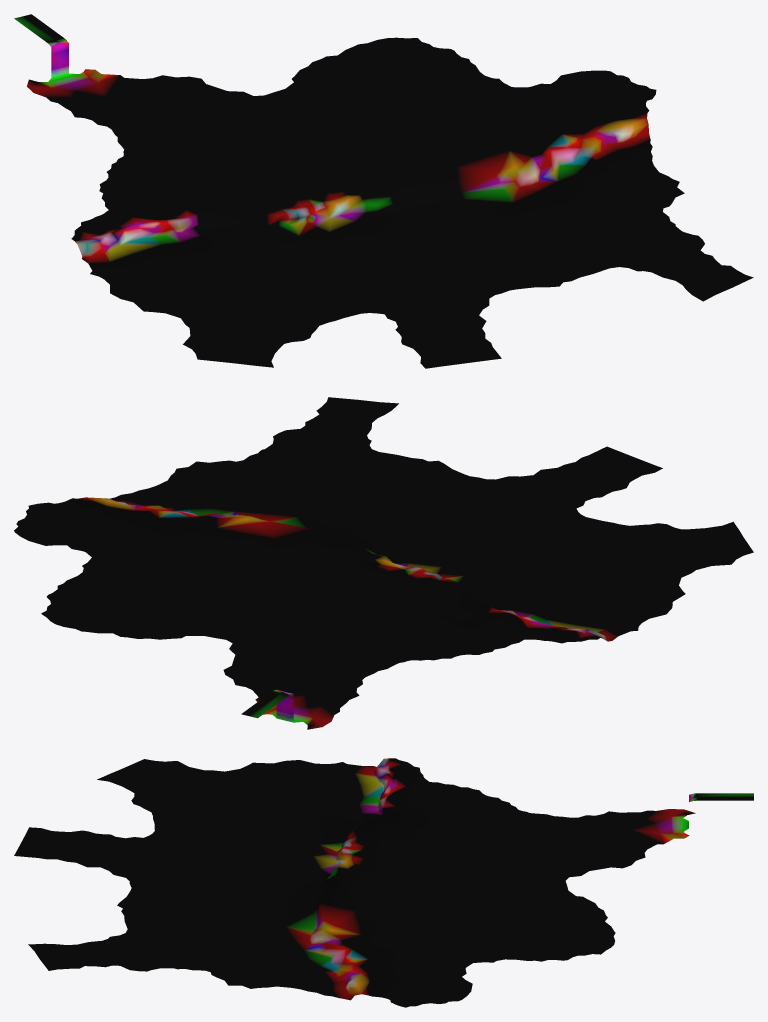
3 renders of one model, top to bottom at view 1: azimuth 30°, elevation 25°; view 2: azimuth 150°, elevation 25°; view 3: azimuth 270°, elevation 25°, orthographic. The views are drawn at different scales.
Parts seen in each view (by area): view 1: G:\FFXIV-MapTools\exports\n5f1\bg\ex4\01_nvt_n5\fld\n5f1\bgp; view 2: G:\FFXIV-MapTools\exports\n5f1\bg\ex4\01_nvt_n5\fld\n5f1\bgp; view 3: G:\FFXIV-MapTools\exports\n5f1\bg\ex4\01_nvt_n5\fld\n5f1\bgp.
Boxes of the visible parts, box(x1,y1,x2,y2) form: G:\FFXIV-MapTools\exports\n5f1\bg\ex4\01_nvt_n5\fld\n5f1\bgp: box(14, 14, 753, 368); G:\FFXIV-MapTools\exports\n5f1\bg\ex4\01_nvt_n5\fld\n5f1\bgp: box(14, 397, 753, 729); G:\FFXIV-MapTools\exports\n5f1\bg\ex4\01_nvt_n5\fld\n5f1\bgp: box(14, 758, 753, 1007).
Size of the model in its own units: 390 by 25.95 by 473.
